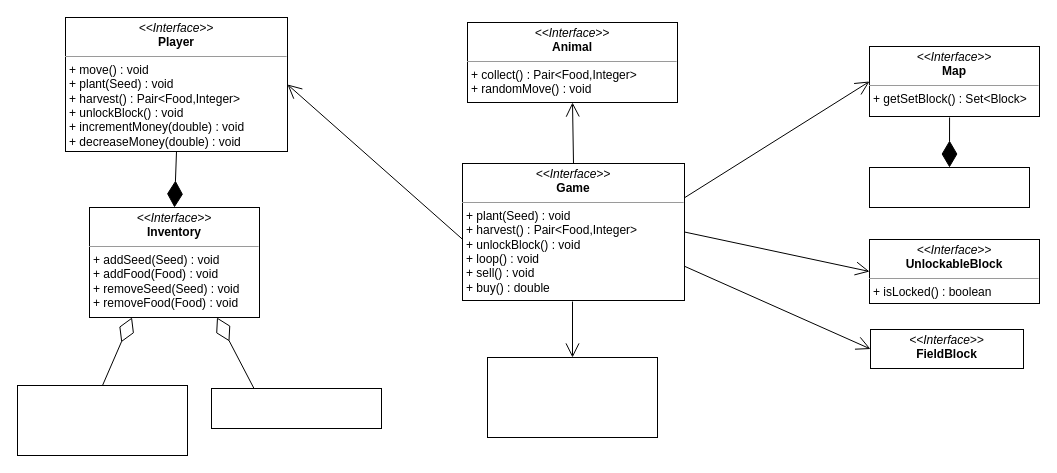
This 1057x473 diagram has some shape labels left out. The shapes that lost their labels are listed below. From the top down, each one's centre as x and y in pixels, then its label:
At [949,187]: "<<Interface>> Block".
At [296,408]: "<<Interface>> Food".
At [572,397]: "<<Interface>> Shop + sell(Food) : double + buy(Seed) : double".
At [102,420]: "<<Interface>> Seed + grow() : void".
